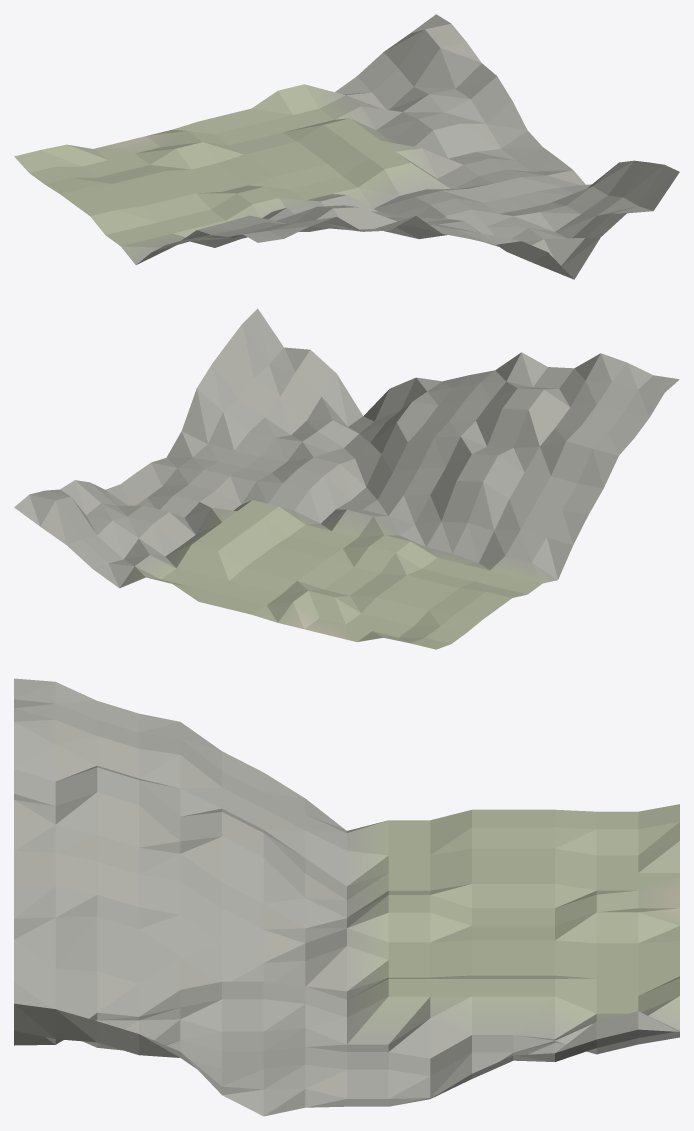
3 renders of one model, top to bottom at view 1: azimuth 30°, elevation 25°; view 2: azimuth 150°, elevation 25°; view 3: azimuth 270°, elevation 25°, orthographic. The views are drawn at different scales.
Size of the model in its own units: 32 by 8.79 by 32.
